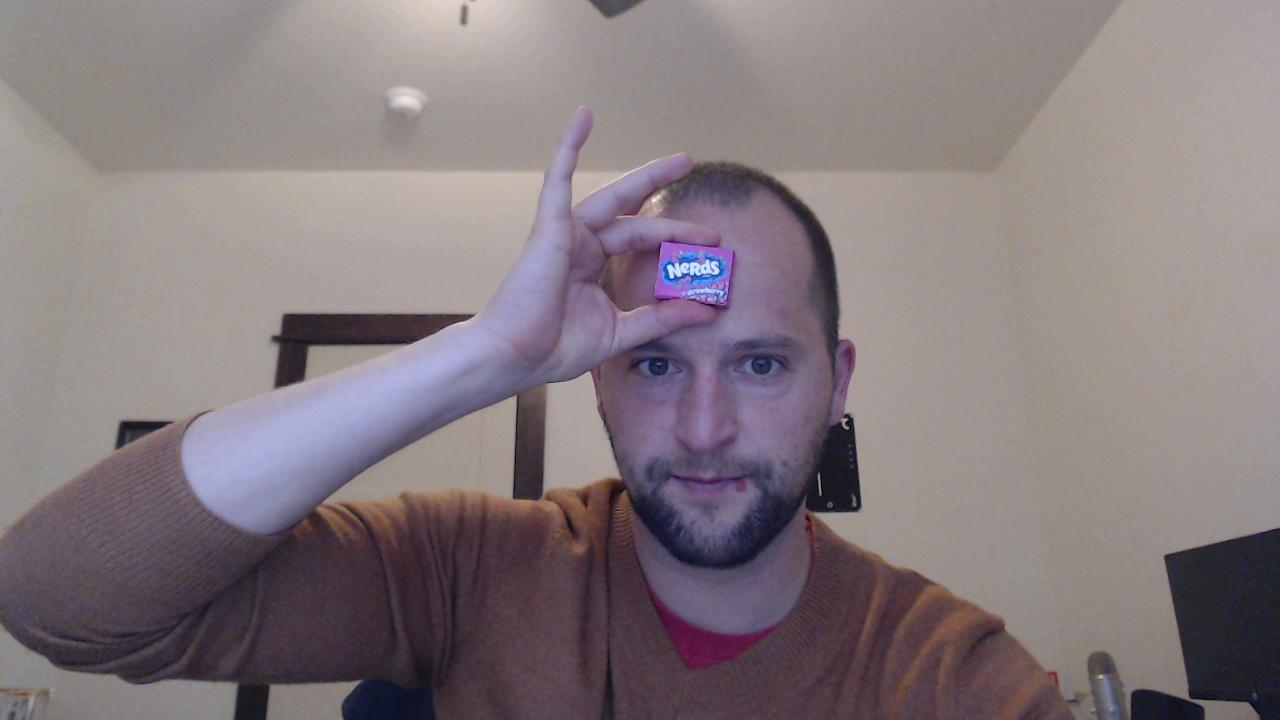nerds: (649, 240, 741, 308)
